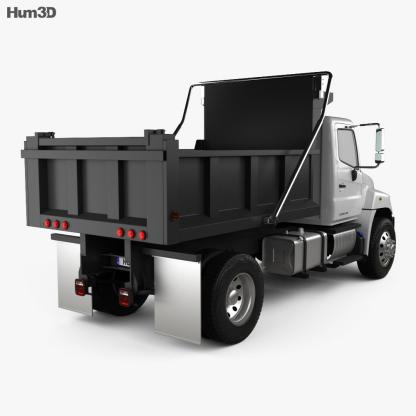dump_truck: (20, 61, 401, 363)
